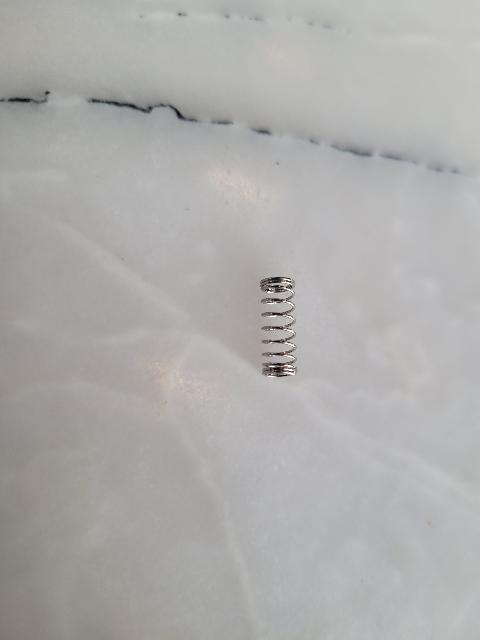Metal: (260, 267, 302, 382)
